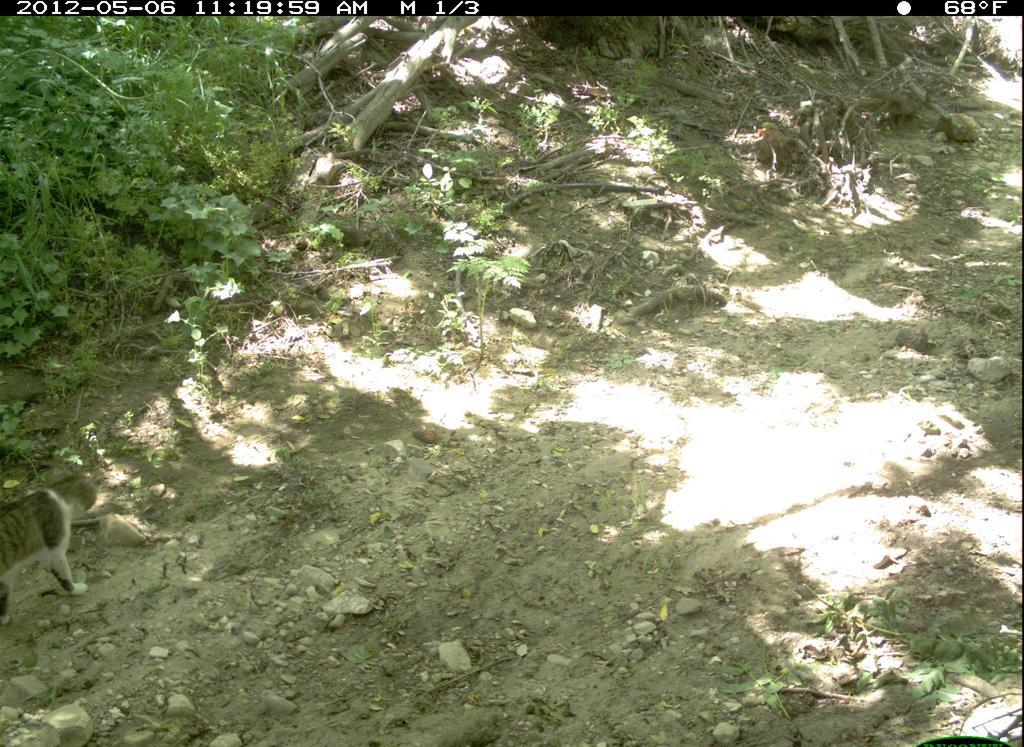cat: (2, 468, 103, 633)
